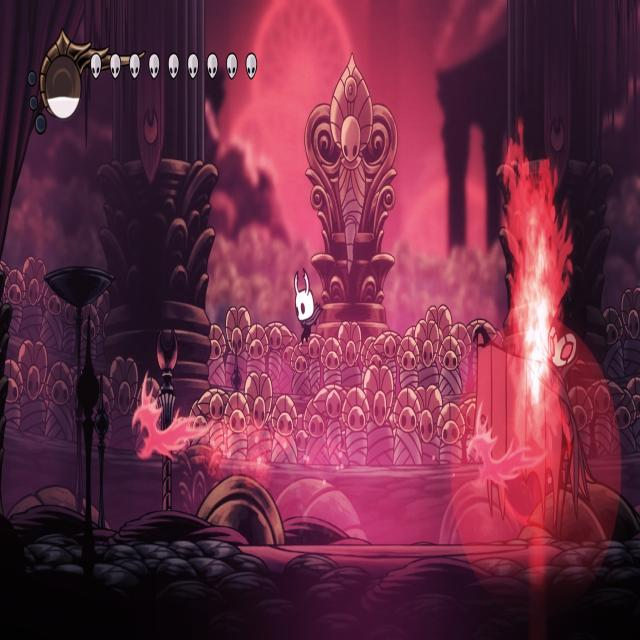Fire Bat: (464, 400, 548, 493), (134, 371, 212, 464)
Open Cloak: (470, 302, 598, 542)
Player: (290, 264, 324, 349)
